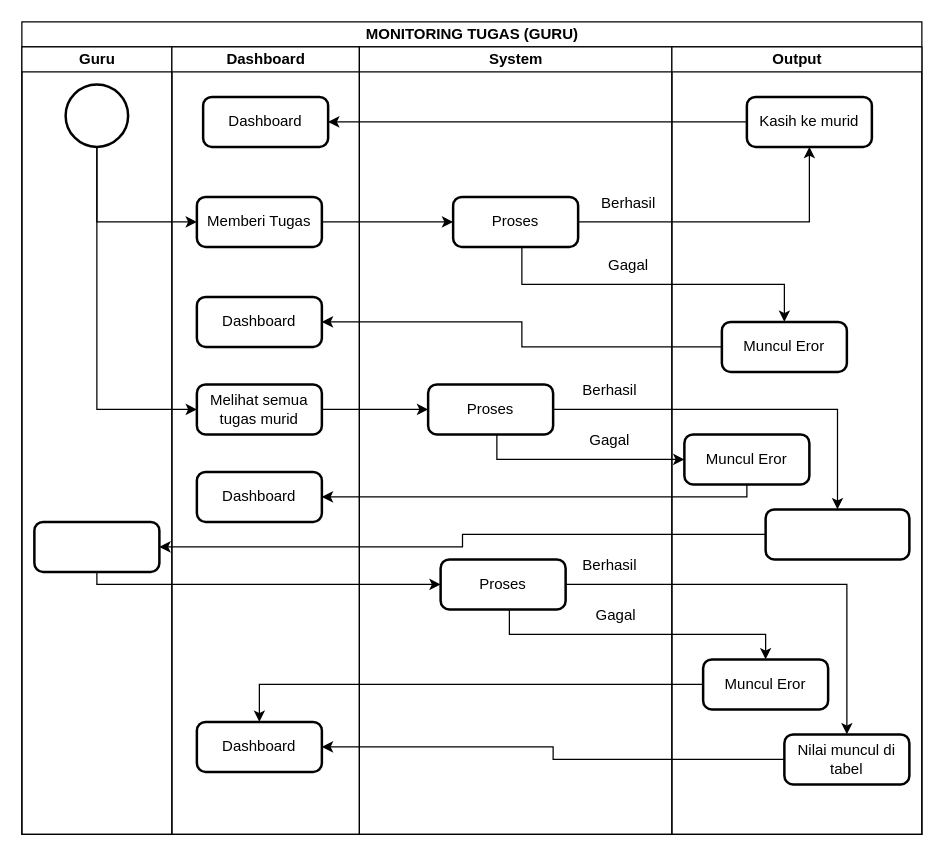
Some shapes in this 944 by 856 pixel diagram are drawn without their labels. The centre of each missing label's shape, as x and y in pixels:
Menilai Tugas: the point at 96,546
Mulai: the point at 96,115
Tabel tugas murid: the point at 837,534
